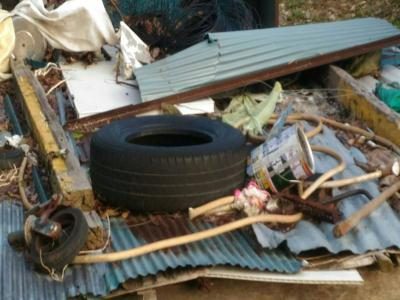bottle: (246, 123, 318, 197)
plastic_bag: (17, 1, 117, 49)
tire: (87, 112, 249, 214), (27, 203, 93, 276)
